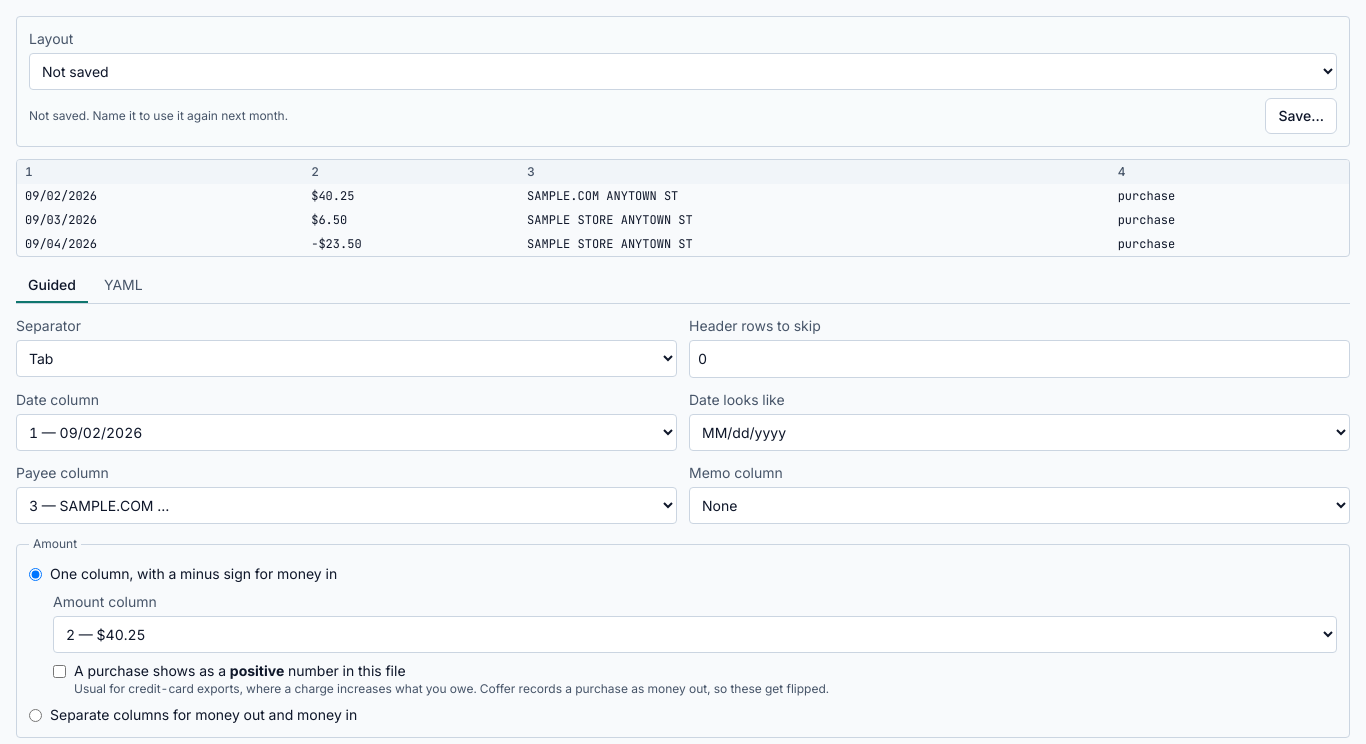
Scenario: CsvMappingStep › does not complain about a name nobody is typing
This screenshot has width=1366, height=744.
Select "Store card statement" in the dropdown labelled "Layout" at (683, 72), box [29,53,1337,90]
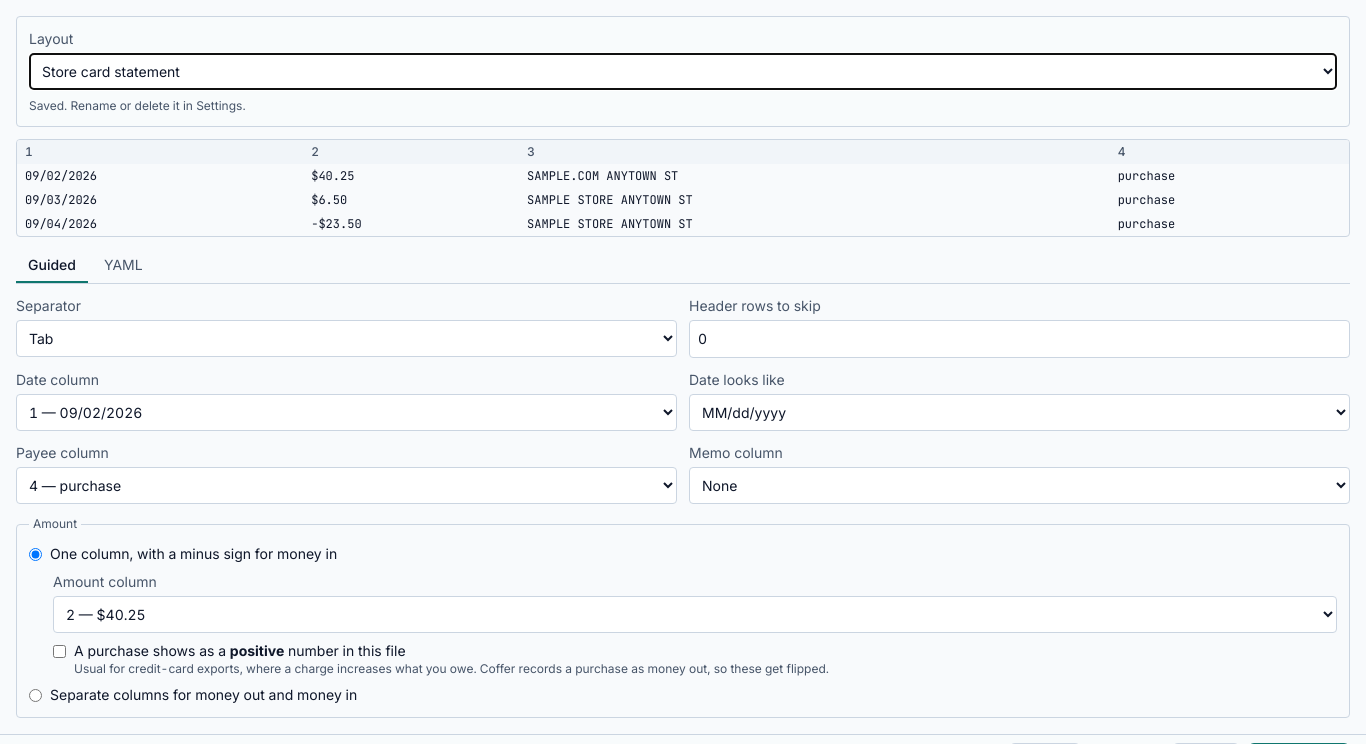
expect the text "Saved. Rename or delete it in Settings." is shown: met, box [29,98,246,113]
Select "3 — SAMPLE.COM …" in the dropdown labelled "Payee column" at (346, 486), box [16,467,677,504]
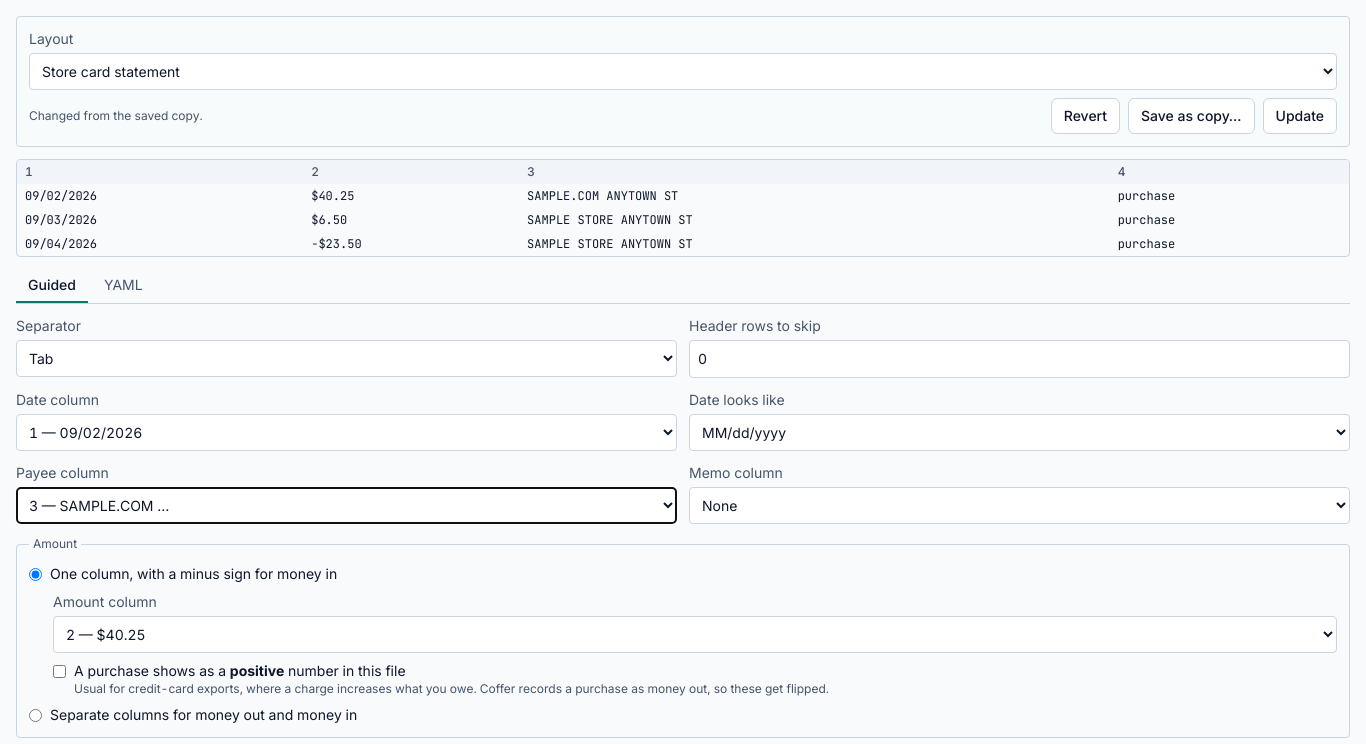
expect the field labelled "name" is not shown: met
expect the text "Changed from the saved copy." is shown: met, box [29,108,203,123]
